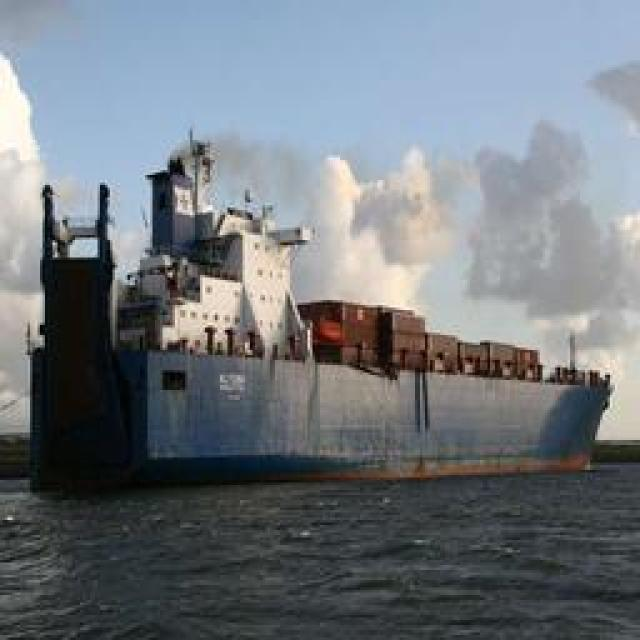ship2: (27, 125, 614, 494)
